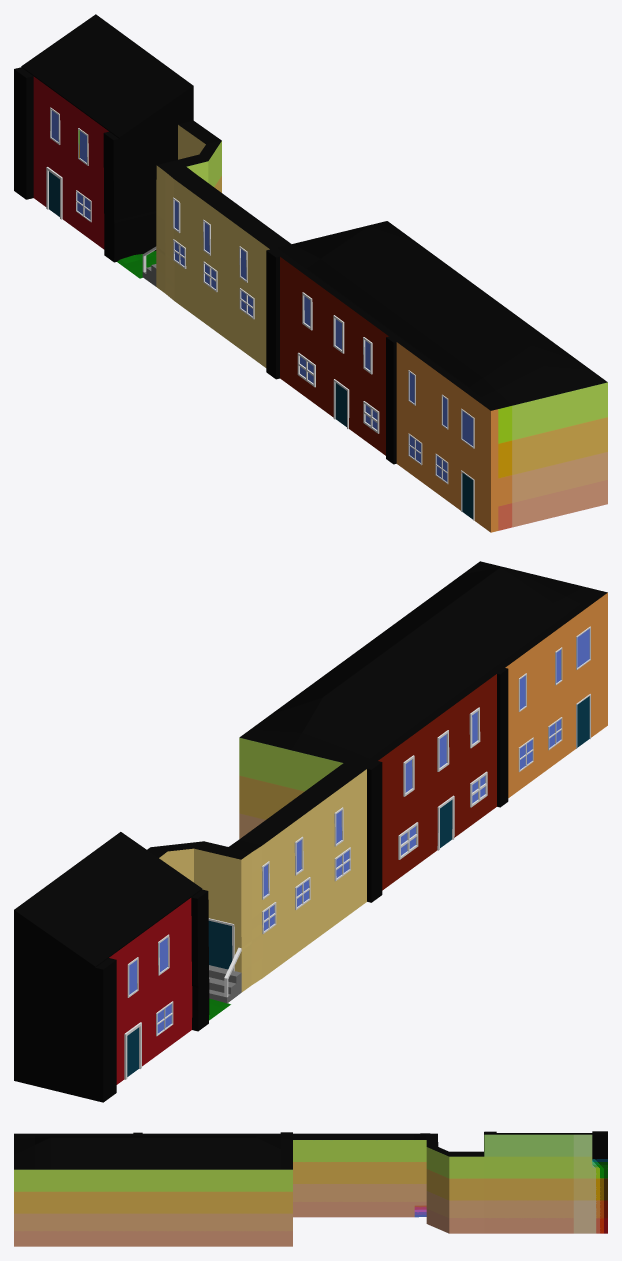
File: House1.fbx
3 renders of one model, top to bottom at view 1: azimuth 30°, elevation 25°; view 2: azimuth 150°, elevation 25°; view 3: azimuth 270°, elevation 25°, orthographic. The views are drawn at different scales.
Parts seen in each view (by area): view 1: Houses; view 2: Houses; view 3: Houses.
Part boxes in pixels (bbox=[...]): Houses: bbox=[14, 14, 607, 532]; Houses: bbox=[14, 561, 607, 1102]; Houses: bbox=[14, 1131, 607, 1246].
Size of the model in its own units: 1157 by 1393 by 7563.
